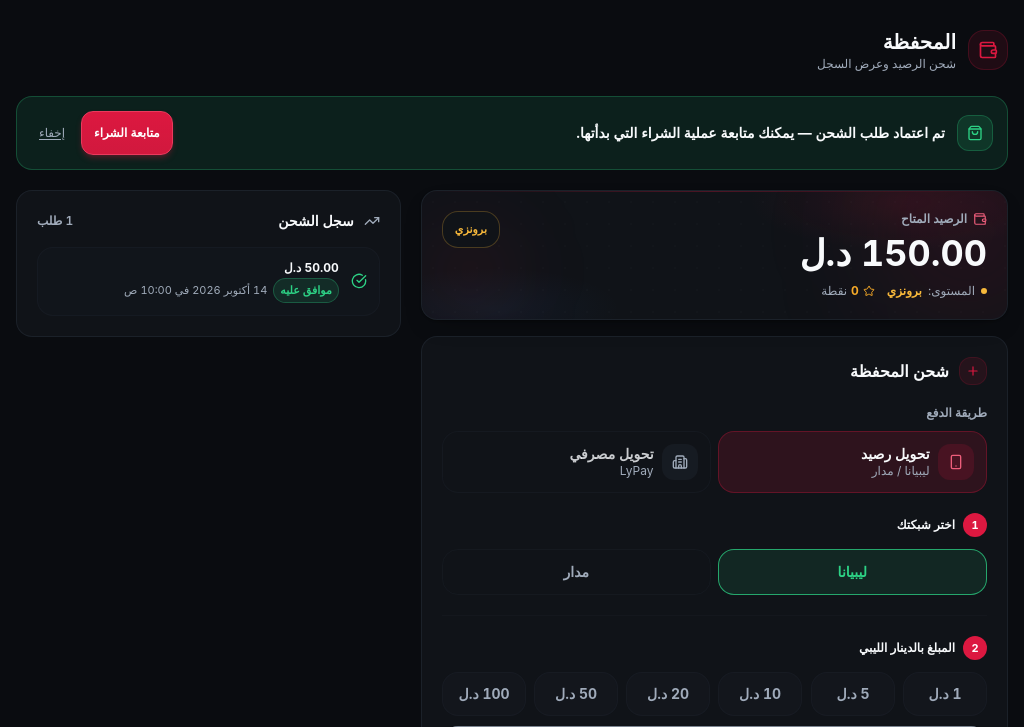
Scenario: WalletPage — the checkout-return affordance (L1-2) › «إخفاء» consumes the intent without navigating (the stale-intent window closes)
The image size is (1024, 727).
Click the button "إخفاء" at {"x": 52, "y": 133}, box [31,111,73,155]
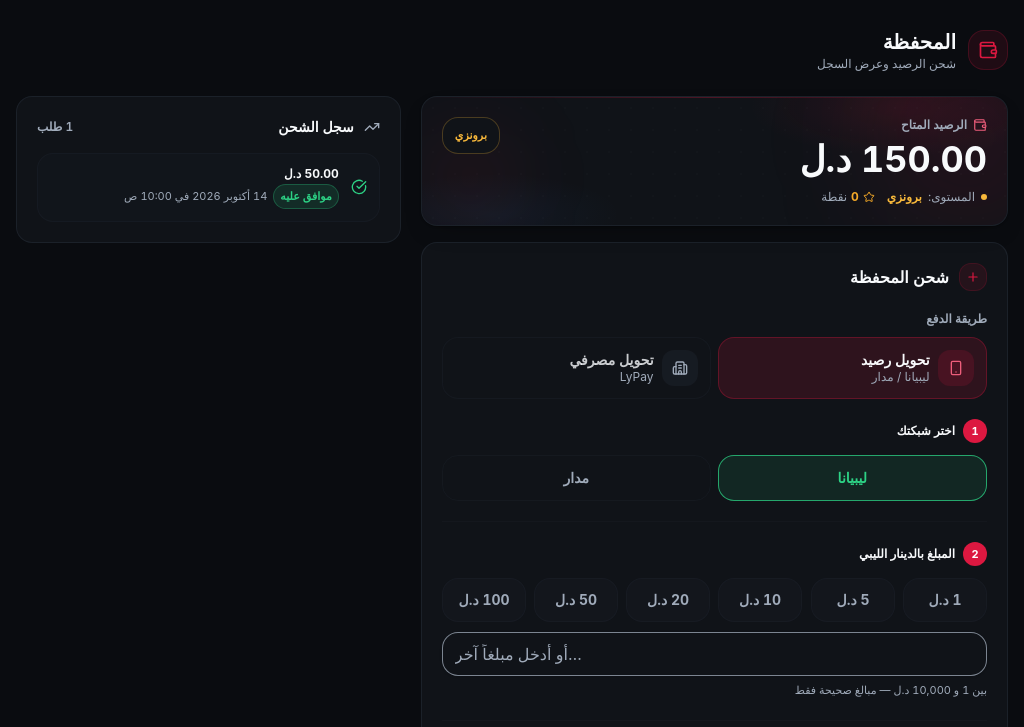
Expected: the button "متابعة الشراء" is gone
